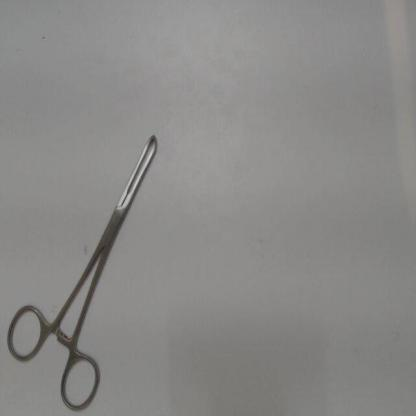Allis Tissue Forceps: (3, 125, 164, 414)
